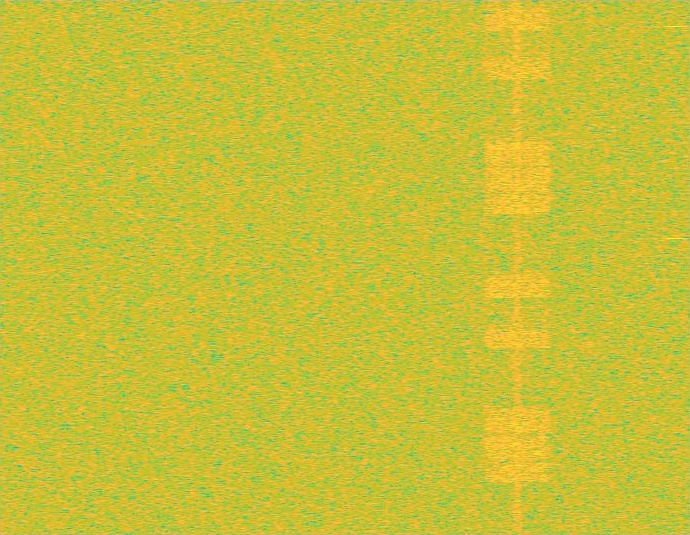DSSS: (513, 0, 522, 534)
LTE: (483, 0, 552, 534)
Radar: (668, 0, 682, 534)
